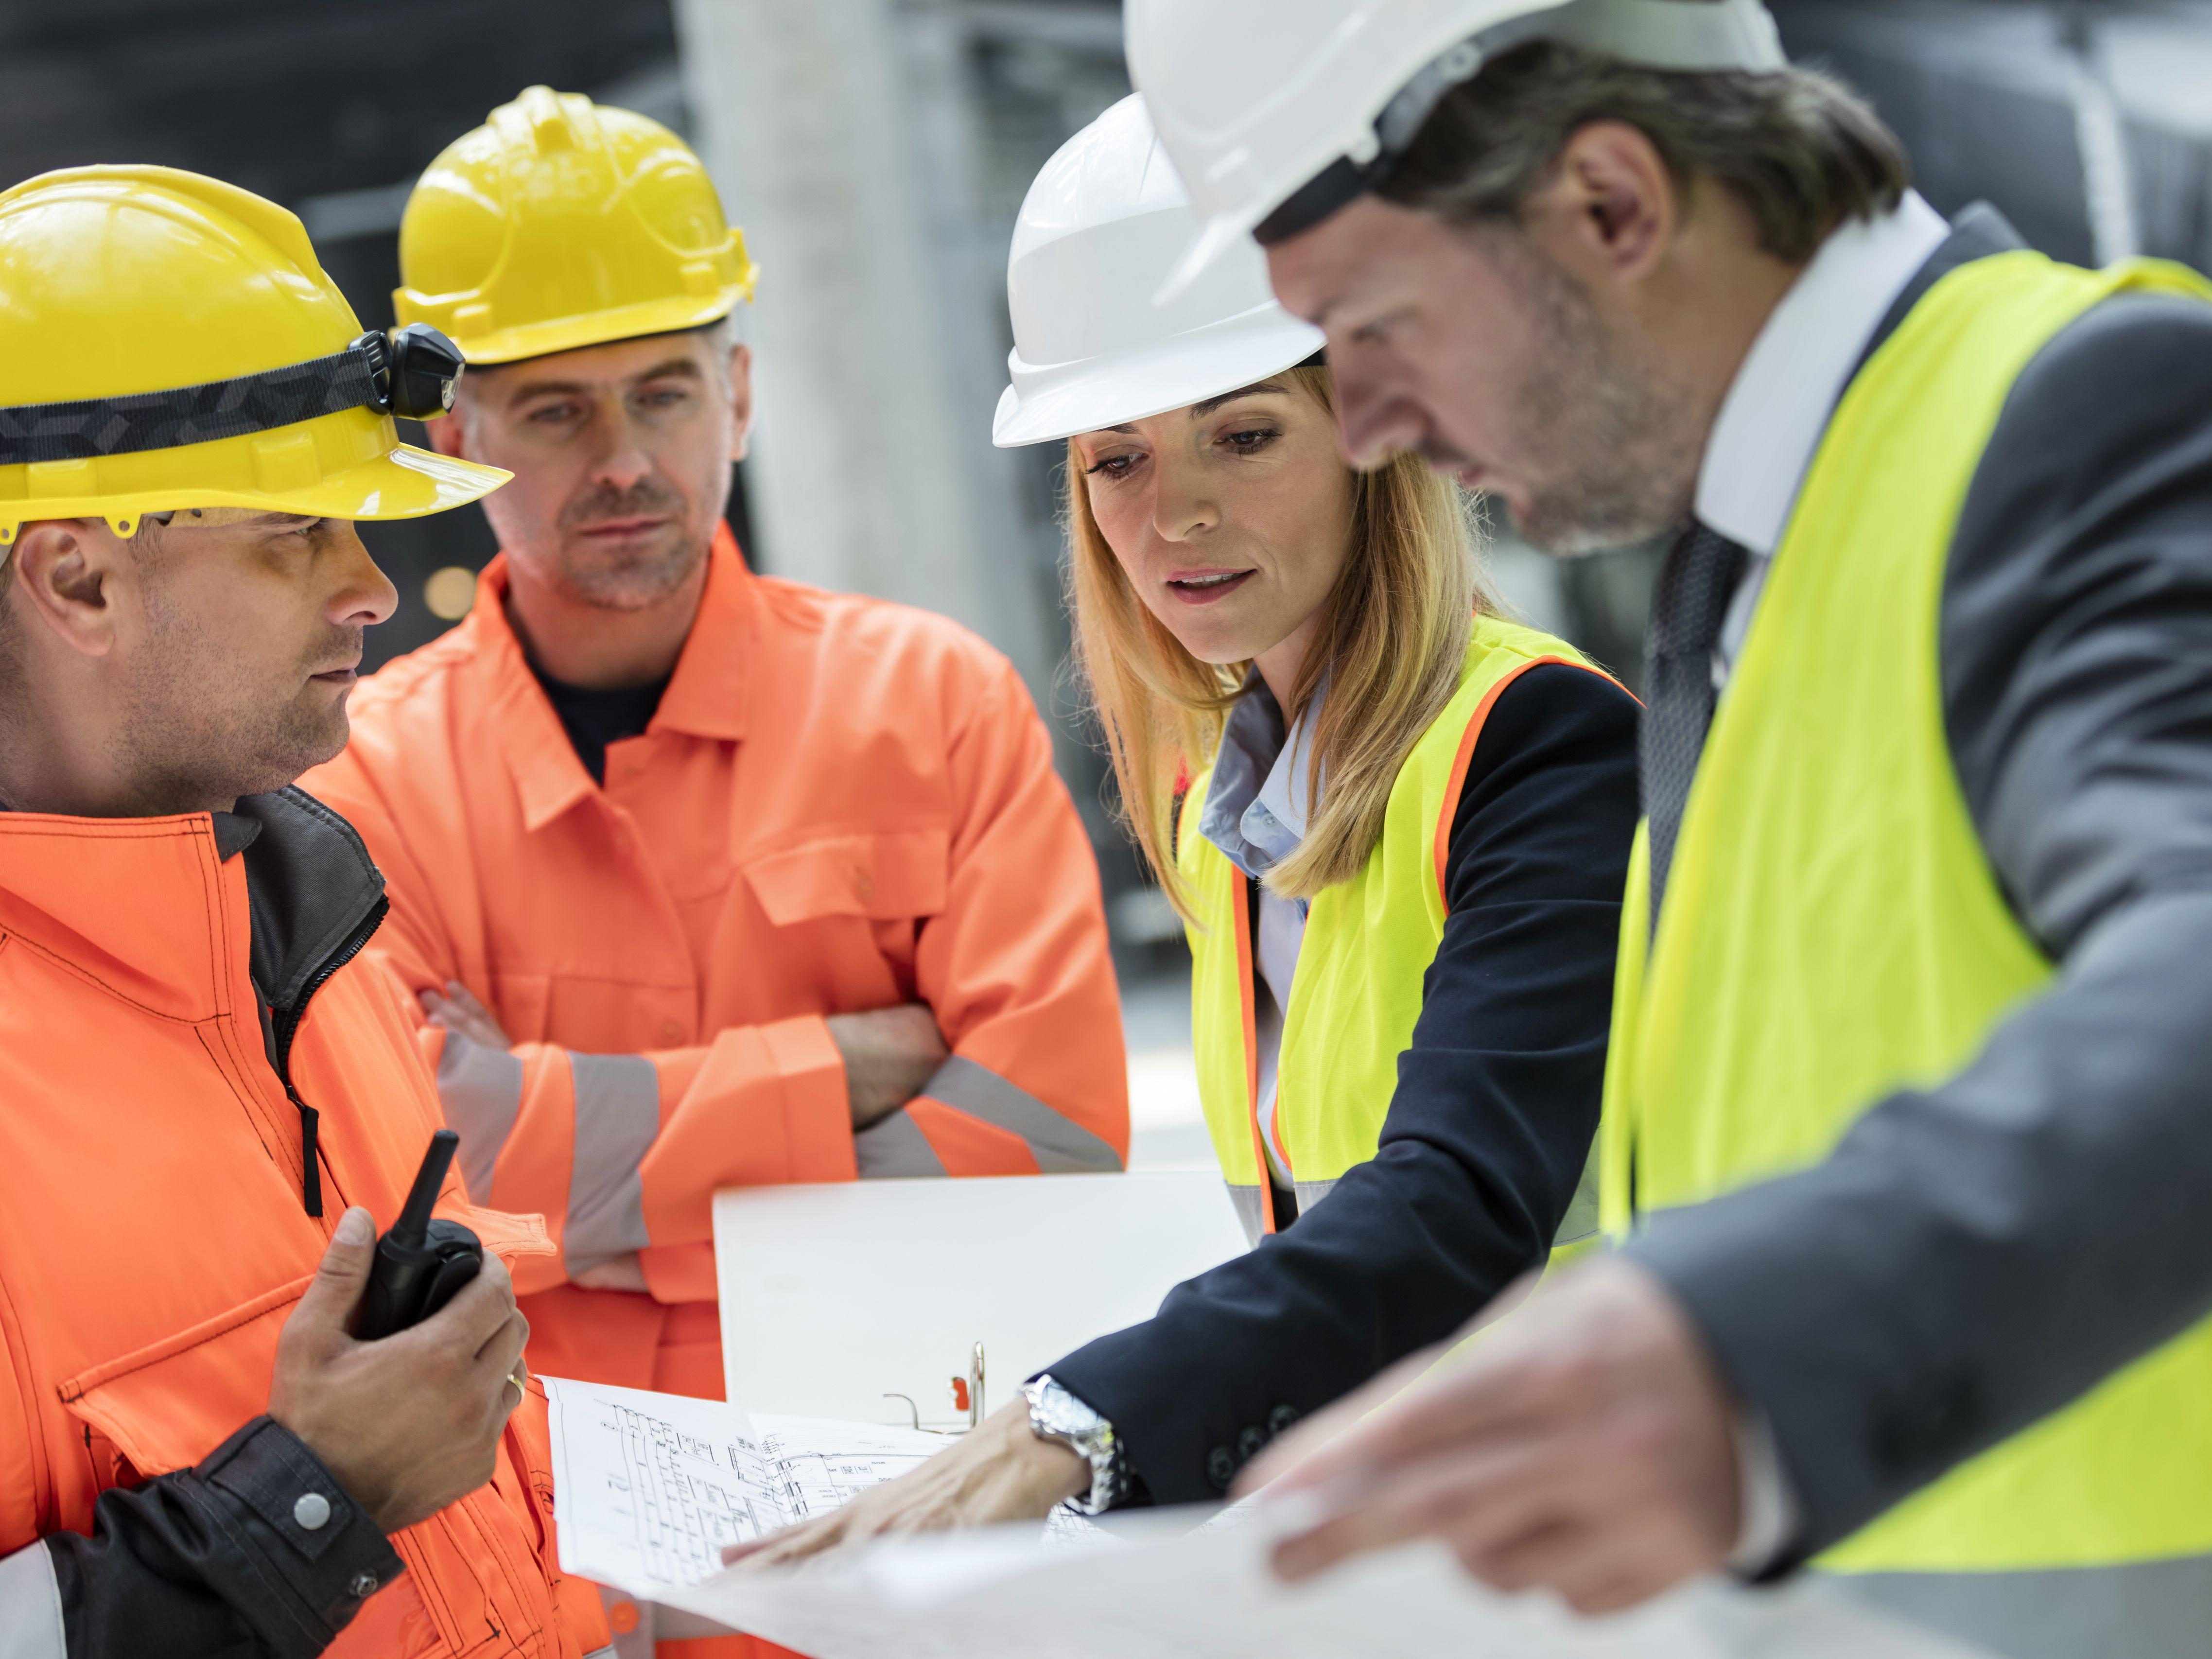helmet: (0, 159, 514, 558), (1122, 0, 1818, 258), (996, 99, 1327, 457), (387, 85, 756, 385)
